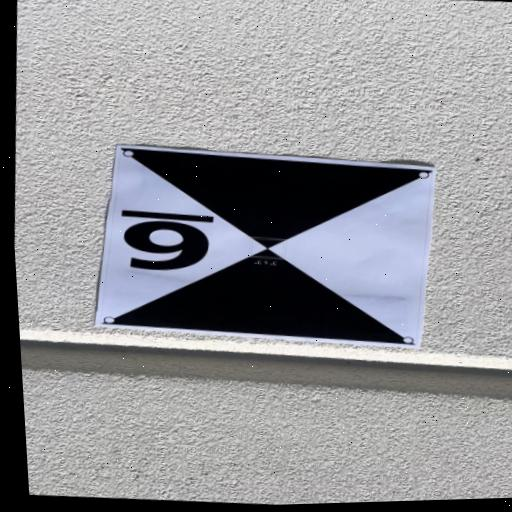target6: (94, 142, 433, 347)
